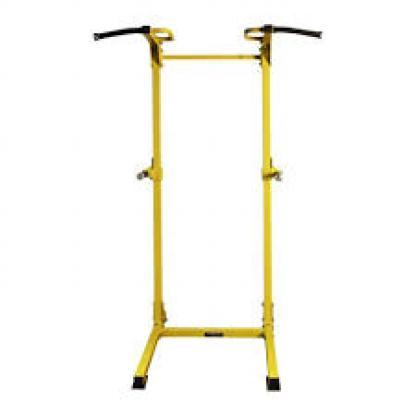chinning dipping: (92, 23, 322, 389)
